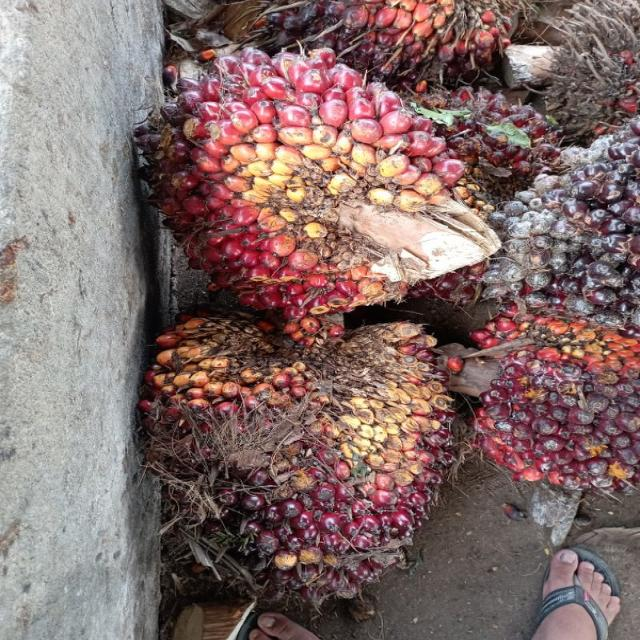fraksi 1: (70, 277, 552, 640)
fraksi 3: (53, 6, 550, 359)
